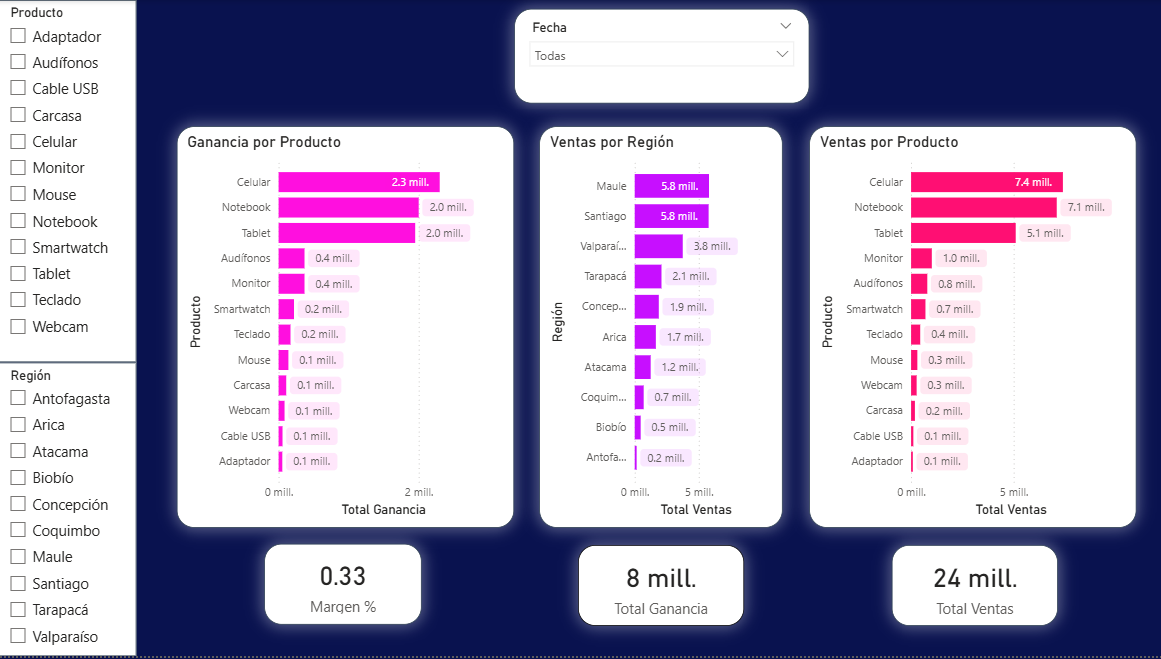

The page's visual inventory and layout, read from the dashboard file:
{"tool":"powerbi","page":{"name":"Página 1","canvas":[1280,720],"ordinal":0},"visuals":[{"type":"card","fields":{"Values":["ventas_limpio.Margen %"]},"box":[292.3,596.9,172.9,89.2],"z":0},{"type":"card","fields":{"Values":["ventas_limpio.Total Ganancia"]},"box":[636.7,598.3,182.5,89.2],"z":1000},{"type":"card","fields":{"Values":["ventas_limpio.Total Ventas"]},"box":[981.1,598.3,182.5,89.2],"z":2000},{"type":"clusteredBarChart","title":"Ventas por Producto","fields":{"Category":["ventas_limpio.Producto"],"Y":["ventas_limpio.Total Ventas"]},"box":[890.6,138.6,359.5,440.5],"z":3000},{"type":"clusteredBarChart","title":"Ganancia por Producto","fields":{"Category":["ventas_limpio.Producto"],"Y":["ventas_limpio.Total Ganancia"]},"box":[196.2,138.6,370.5,440.5],"z":4000},{"type":"clusteredBarChart","title":"Ventas por Región","fields":{"Category":["ventas_limpio.Región"],"Y":["ventas_limpio.Total Ventas"]},"box":[594.2,138.6,267.6,440.5],"z":5000},{"type":"slicer","fields":{"Values":["ventas_limpio.Producto"]},"box":[0,0,152.3,397.9],"z":6000},{"type":"slicer","fields":{"Values":["ventas_limpio.Región"]},"box":[0,397.9,152.3,322.5],"z":7000},{"type":"slicer","fields":{"Values":["ventas_limpio.Fecha"]},"box":[566.7,9.6,323.8,118],"z":8000}]}

Visuals, with their boxes in screenshot pixels (x1, y1, x2, y2), scaled from the page's 1280x720 canvas onto the 1161x659 screenshot:
card - ventas_limpio.Margen %: 265, 546, 422, 628
card - ventas_limpio.Total Ganancia: 578, 548, 743, 629
card - ventas_limpio.Total Ventas: 890, 548, 1055, 629
"Ventas por Producto" clusteredBarChart: 808, 127, 1134, 530
"Ganancia por Producto" clusteredBarChart: 178, 127, 514, 530
"Ventas por Región" clusteredBarChart: 539, 127, 782, 530
slicer - ventas_limpio.Producto: 0, 0, 138, 364
slicer - ventas_limpio.Región: 0, 364, 138, 658
slicer - ventas_limpio.Fecha: 514, 9, 808, 117
